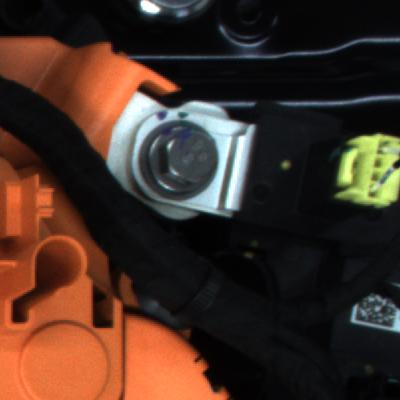nut_b: (137, 121, 232, 204)
